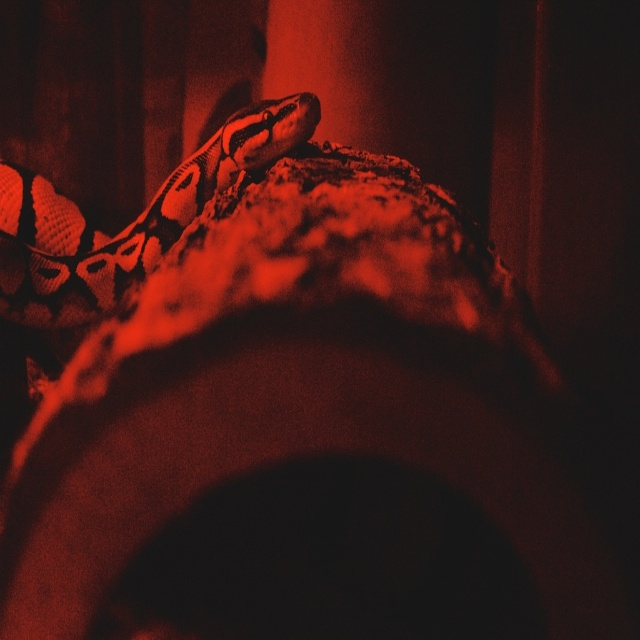Snake: (0, 86, 325, 376)
